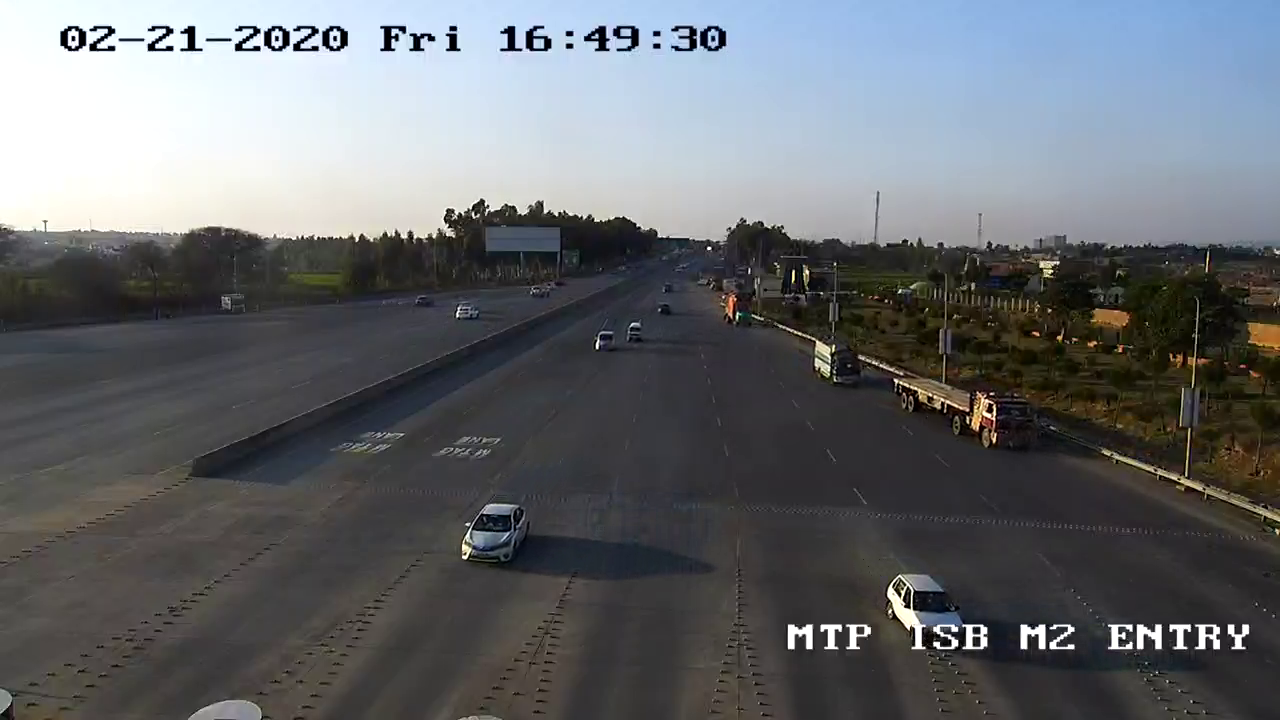f1: (450, 496, 539, 570)
f6: (880, 362, 1043, 462)
